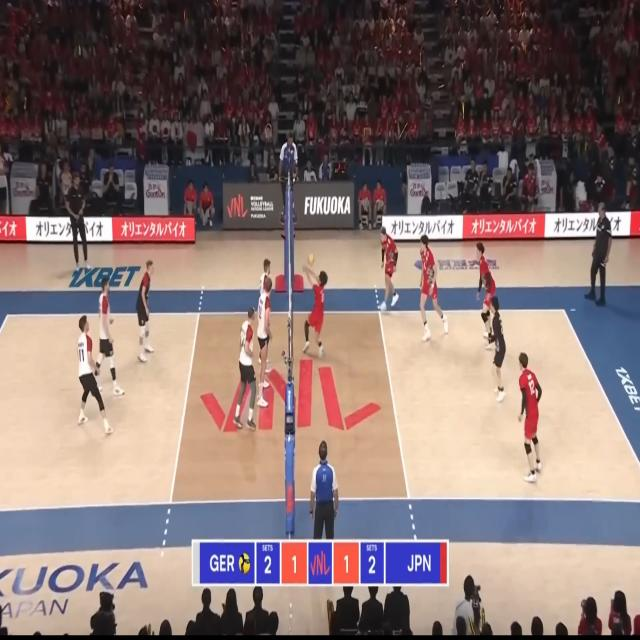ball: (308, 252, 314, 266)
